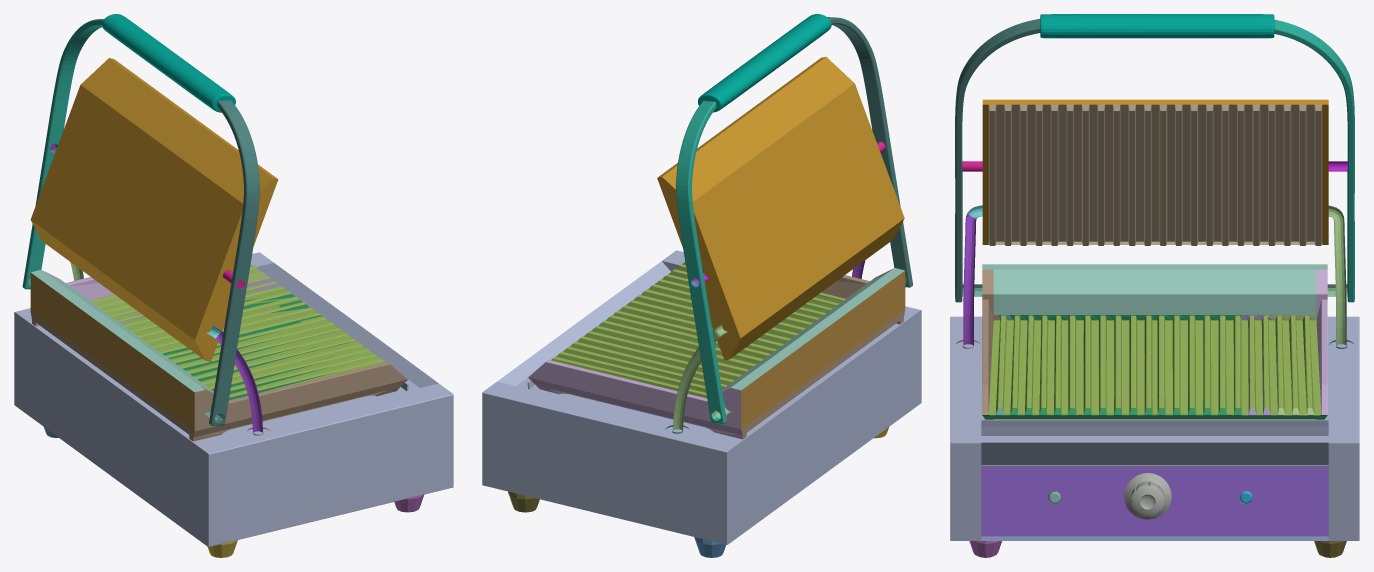
The picture shows the model from 3 angles, left to right: view 1: azimuth 30°, elevation 25°; view 2: azimuth 150°, elevation 25°; view 3: azimuth 270°, elevation 25°; orthographic projection. The views are drawn at different scales.
Visible parts, largest first — view 1: world; view 2: world; view 3: world.
Boxes of the visible parts, x1=… form: world: x1=14, y1=14, x2=453, y2=557; world: x1=482, y1=14, x2=921, y2=557; world: x1=950, y1=14, x2=1359, y2=557.
Bounding box in the file's own units: 1.26 × 2 × 1.63.
